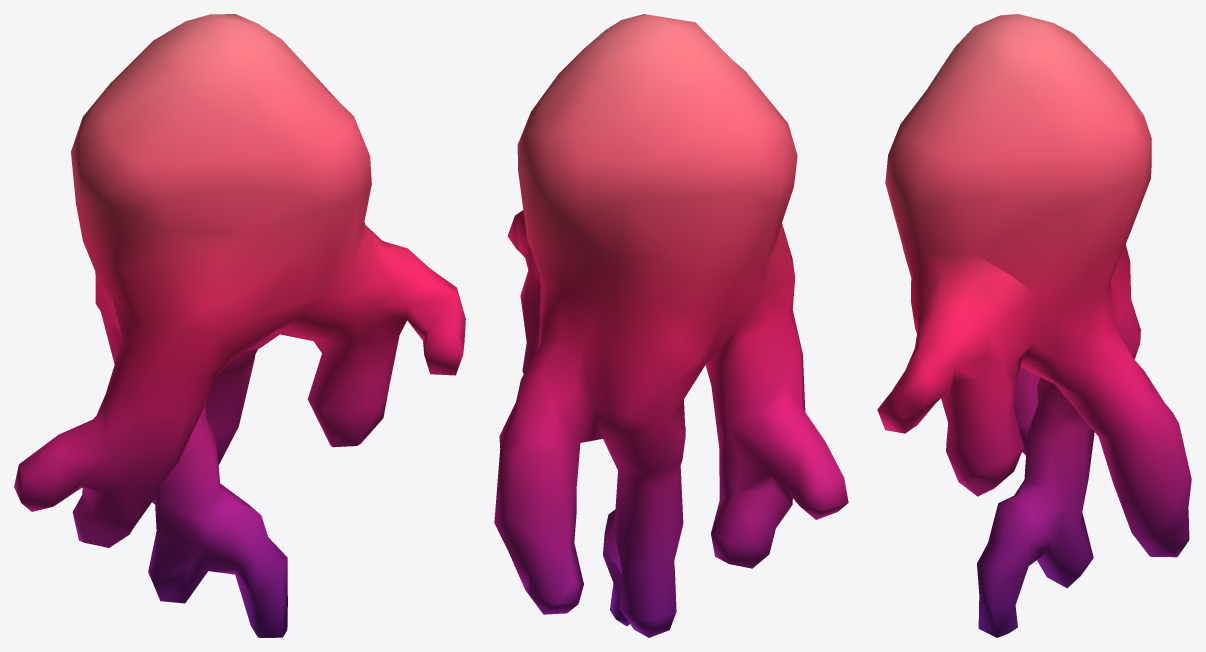
Rendered from Capsule_contents_013.fbx.
The picture shows the model from 3 angles, left to right: view 1: azimuth 30°, elevation 25°; view 2: azimuth 150°, elevation 25°; view 3: azimuth 270°, elevation 25°; orthographic projection. The views are drawn at different scales.
Visible parts, largest first — view 1: Сapsule_contents_013; view 2: Сapsule_contents_013; view 3: Сapsule_contents_013.
Boxes of the visible parts, x1,y1,x2,y2 form: Сapsule_contents_013: (14, 14, 465, 637); Сapsule_contents_013: (494, 14, 848, 637); Сapsule_contents_013: (877, 14, 1191, 637).
Bounding box in the file's own units: 95.92 × 69.39 × 145.
